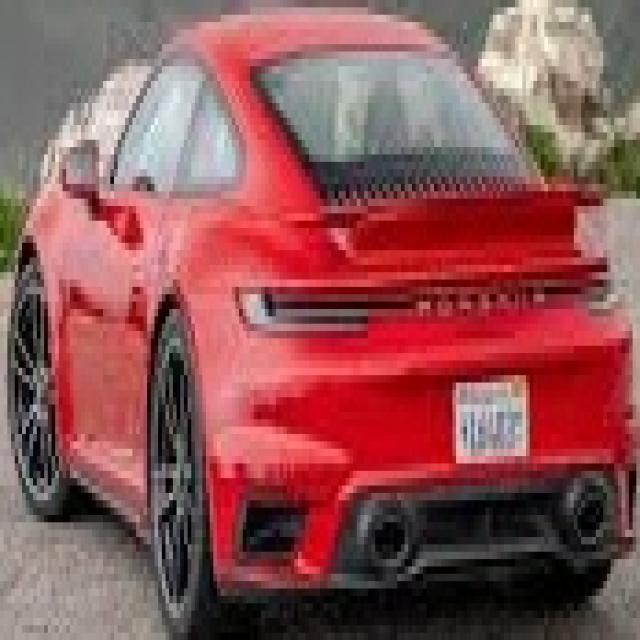red: (8, 7, 640, 568)
